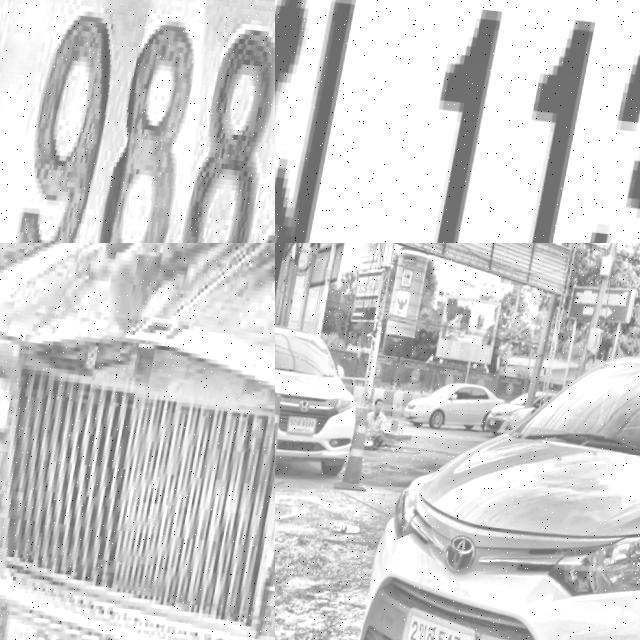license-plate: (275, 0, 640, 243), (0, 0, 275, 243), (0, 604, 214, 640), (399, 597, 491, 640), (287, 413, 322, 436)
